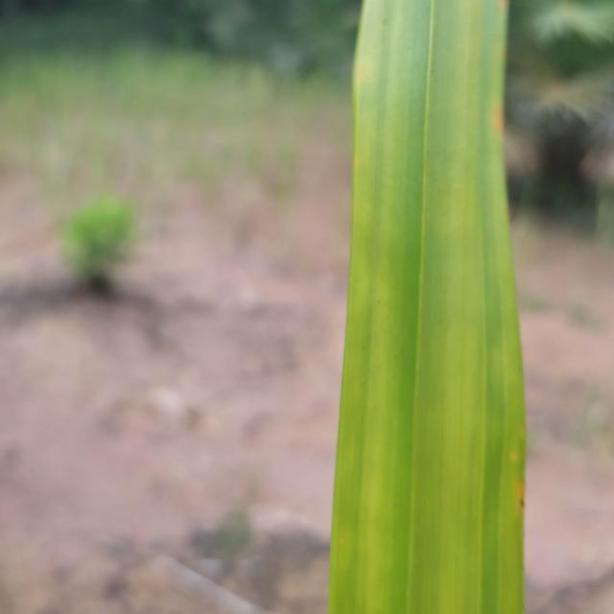nitrogen: (320, 0, 524, 614)
